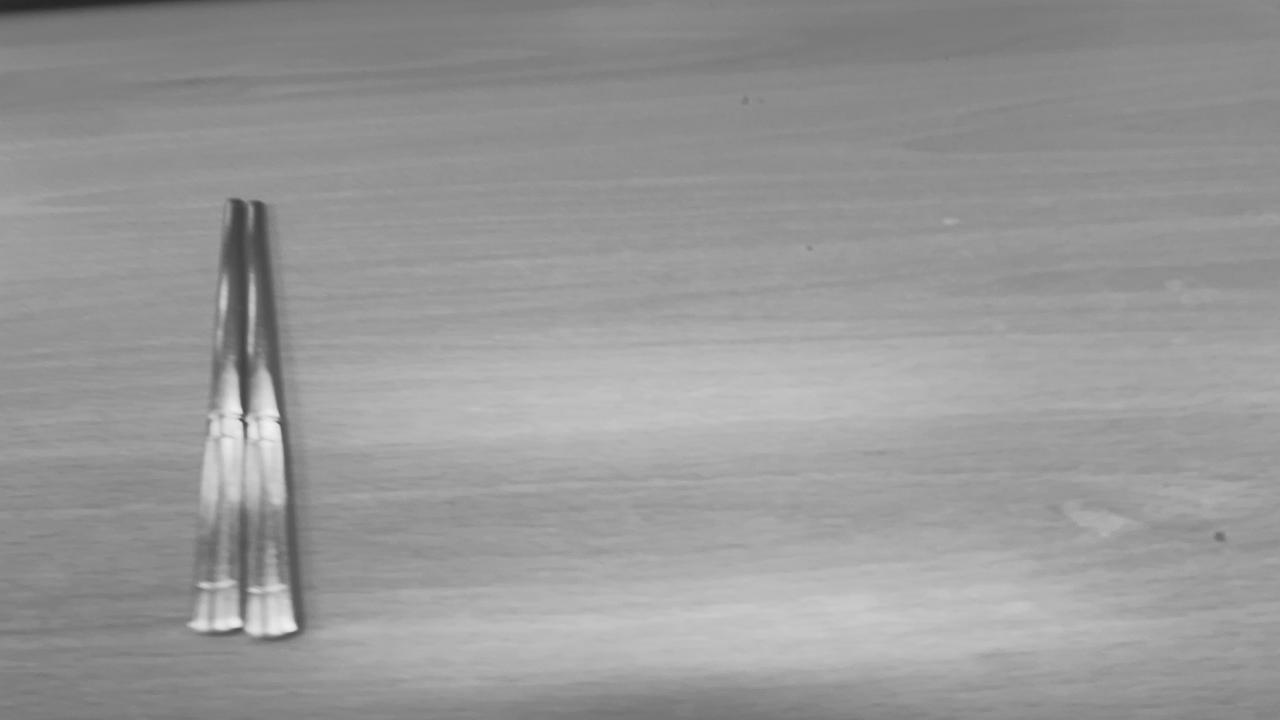chopstick: (190, 200, 300, 638)
